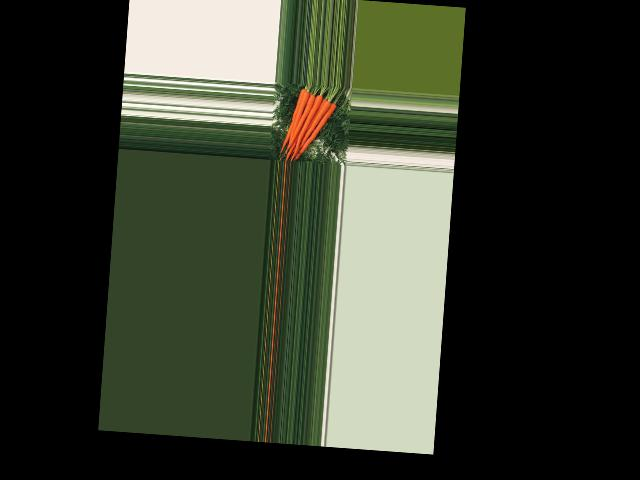carrot: (277, 85, 310, 159)
